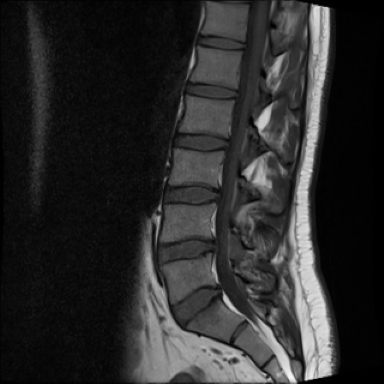Lumbar Disc Bulge (LDB): (163, 278, 230, 335), (151, 234, 226, 271)
Normal IVD: (154, 178, 223, 209), (165, 126, 232, 155), (180, 79, 242, 104), (189, 30, 249, 55)
Spinal Stenosis (SS): (204, 229, 226, 263), (208, 273, 226, 306)
